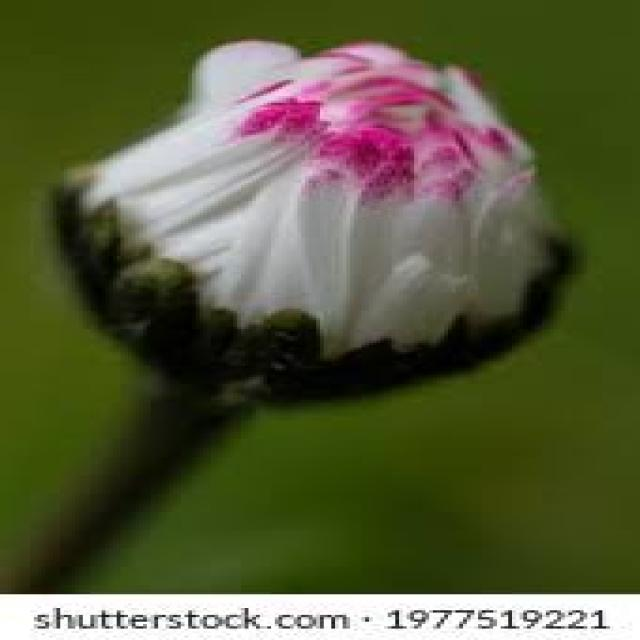Unbloomed: (49, 34, 572, 405)
